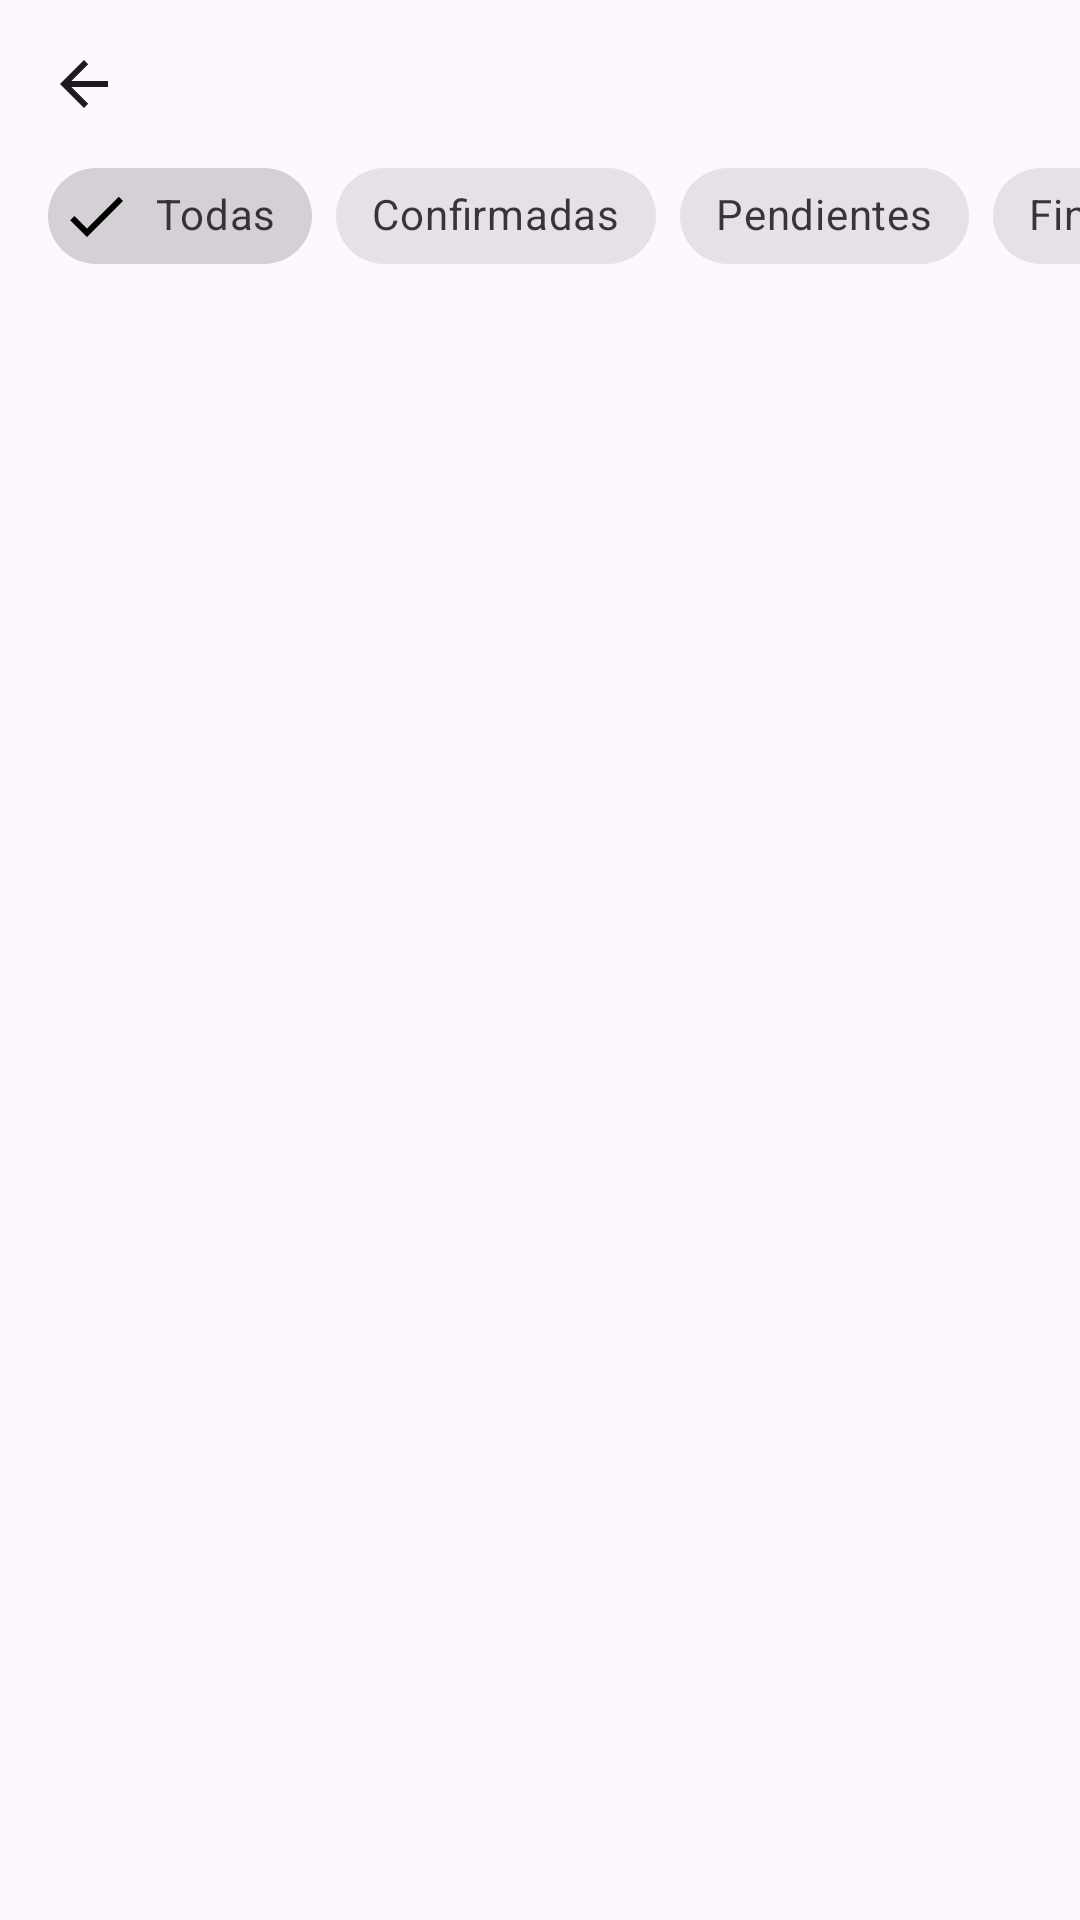

Where to tap for icons on this 1080*1920 app screen, as point (x, y):
ab back: point (84, 84)
